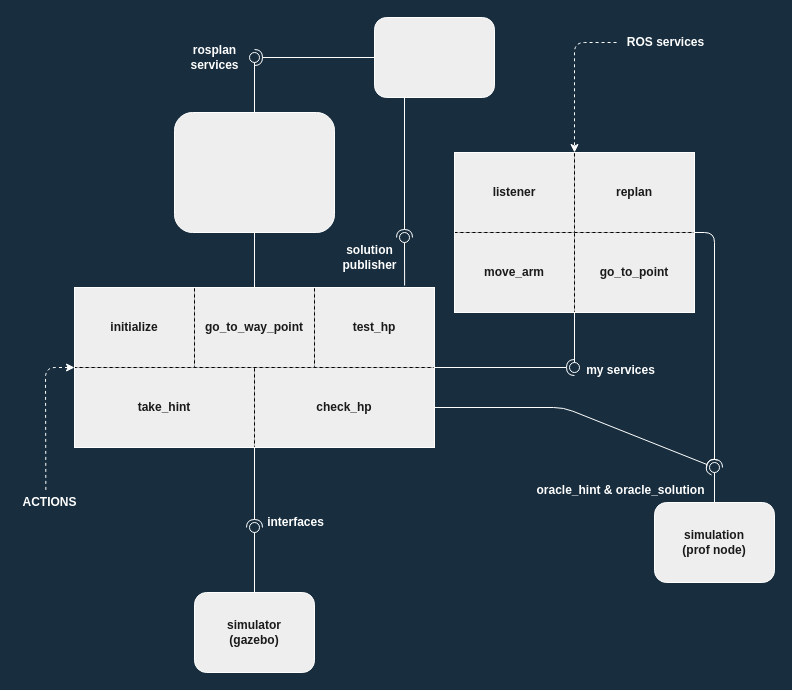
This 792x690 diagram has some shape labels left out. The shapes that lost their labels are listed below. From the top down, each one's box as (x1, y1, x2, y2) in pixels, then its label:
(374, 16, 494, 98): start
(174, 112, 334, 232): ROSPLAN (all its parts)
